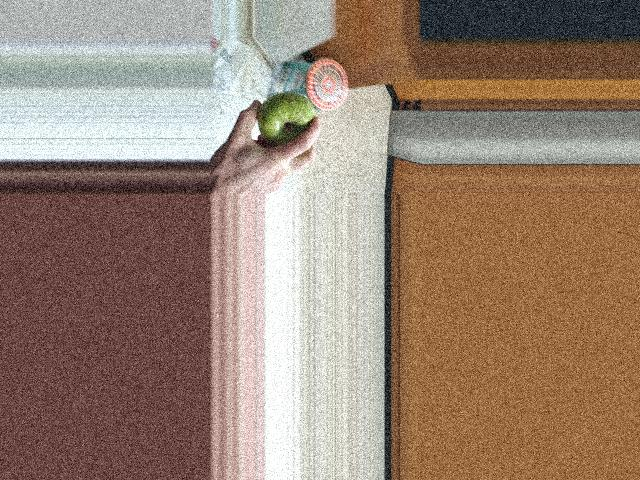apple: (254, 91, 318, 152)
